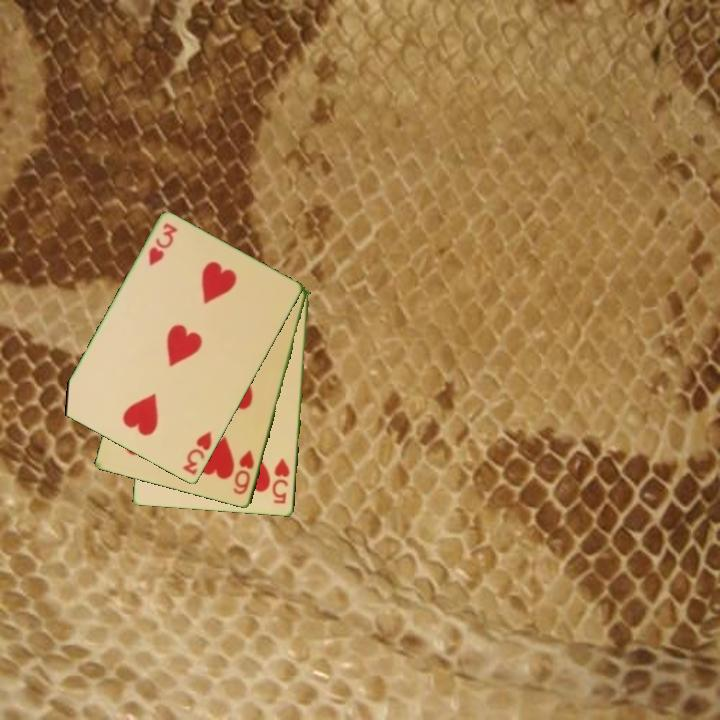3h: (179, 428, 215, 478), (145, 220, 180, 269)
5h: (269, 455, 293, 507)
6h: (229, 447, 257, 498)
